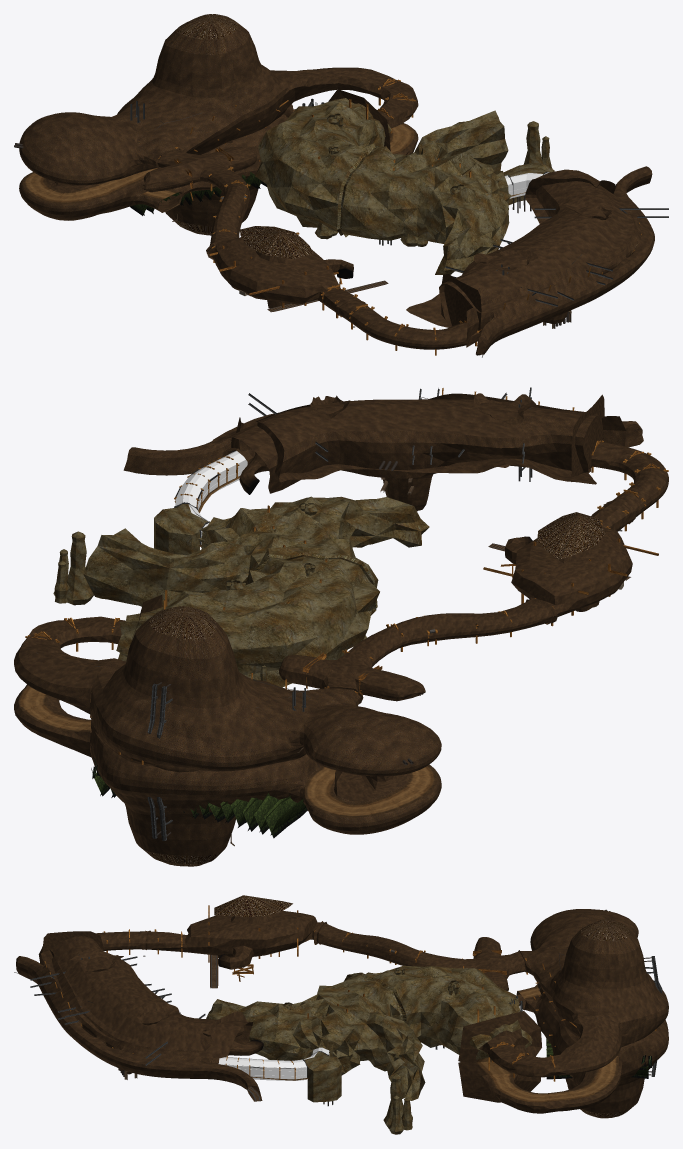
Rendered from track.glb.
The picture shows the model from 3 angles, top to bottom: view 1: azimuth 30°, elevation 25°; view 2: azimuth 150°, elevation 25°; view 3: azimuth 270°, elevation 25°; orthographic projection. The views are drawn at different scales.
Visible parts, largest first — view 1: mesh_13, mesh_2, mesh_12, mesh_7, mesh_14, mesh_15, mesh_20; view 2: mesh_13, mesh_2, mesh_12, mesh_15, mesh_7, mesh_14, mesh_20; view 3: mesh_13, mesh_2, mesh_12, mesh_20, mesh_7, mesh_14.
Part boxes in pixels (x1,y1,x2,y2): mesh_13: [19, 14, 654, 355]; mesh_2: [255, 98, 554, 274]; mesh_12: [22, 109, 525, 317]; mesh_7: [158, 78, 641, 355]; mesh_14: [130, 98, 668, 306]; mesh_15: [130, 172, 266, 215]; mesh_20: [504, 172, 549, 198]; mesh_13: [14, 393, 668, 866]; mesh_2: [53, 496, 429, 687]; mesh_12: [18, 475, 629, 817]; mesh_15: [94, 772, 307, 838]; mesh_7: [25, 388, 668, 764]; mesh_14: [147, 387, 532, 840]; mesh_20: [175, 451, 247, 547]; mesh_13: [16, 895, 668, 1118]; mesh_2: [206, 965, 532, 1134]; mesh_12: [142, 949, 619, 1102]; mesh_20: [218, 1047, 329, 1080]; mesh_7: [44, 905, 656, 1081]; mesh_14: [30, 954, 662, 1077].
Bounding box in the file's own units: 257 × 119 × 372.
24 materials, 24 textured.
